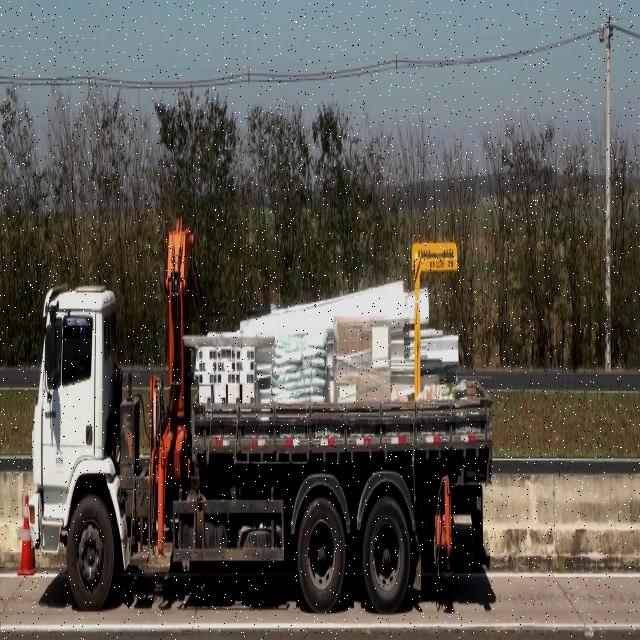-axle: (66, 498, 115, 614), (364, 494, 408, 616), (300, 494, 344, 611)
